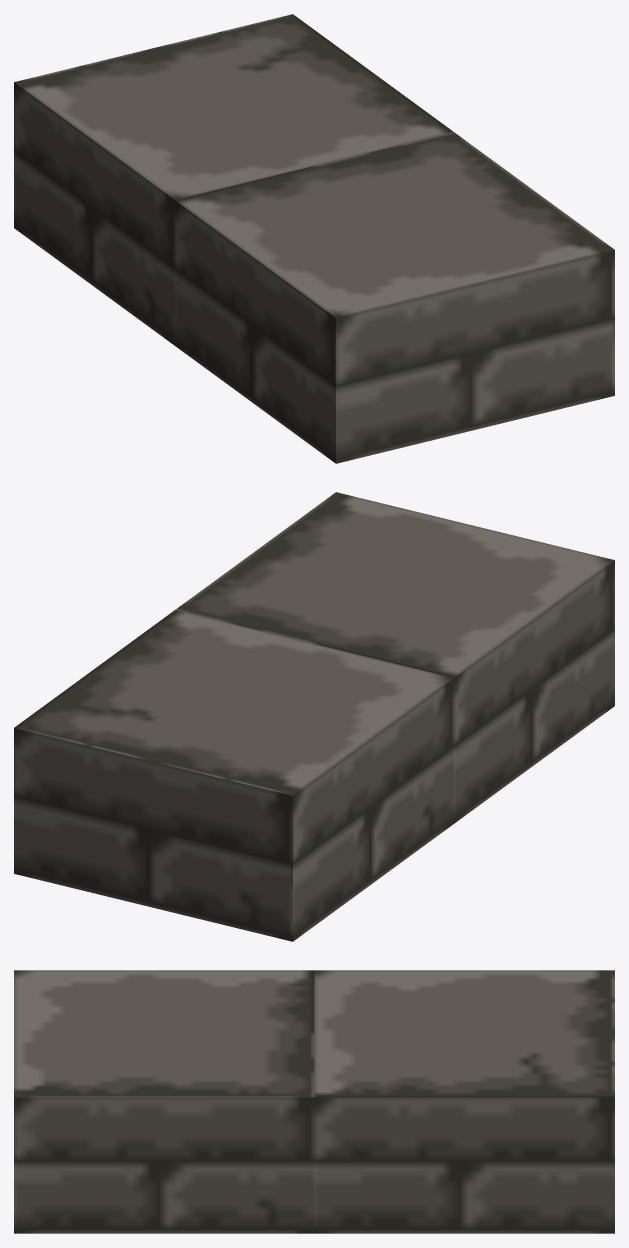
The model's file is Trim_Piece_x2.fbx.
3 views of the same model, one above another, from view 1: azimuth 30°, elevation 25°; view 2: azimuth 150°, elevation 25°; view 3: azimuth 270°, elevation 25° (orthographic). The views are drawn at different scales.
Visible parts, largest first — view 1: Trim_Piece_x2; view 2: Trim_Piece_x2; view 3: Trim_Piece_x2.
Boxes of the visible parts, bbox=[...] form: Trim_Piece_x2: bbox=[14, 14, 614, 463]; Trim_Piece_x2: bbox=[14, 492, 614, 941]; Trim_Piece_x2: bbox=[14, 970, 614, 1233].
Bounding box in the file's own units: 200 × 100 × 400.
1 material, 1 textured.
